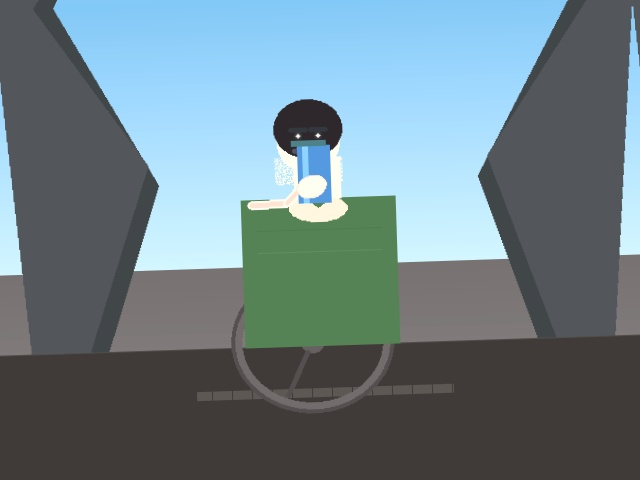drinking: (285, 130, 342, 212)
